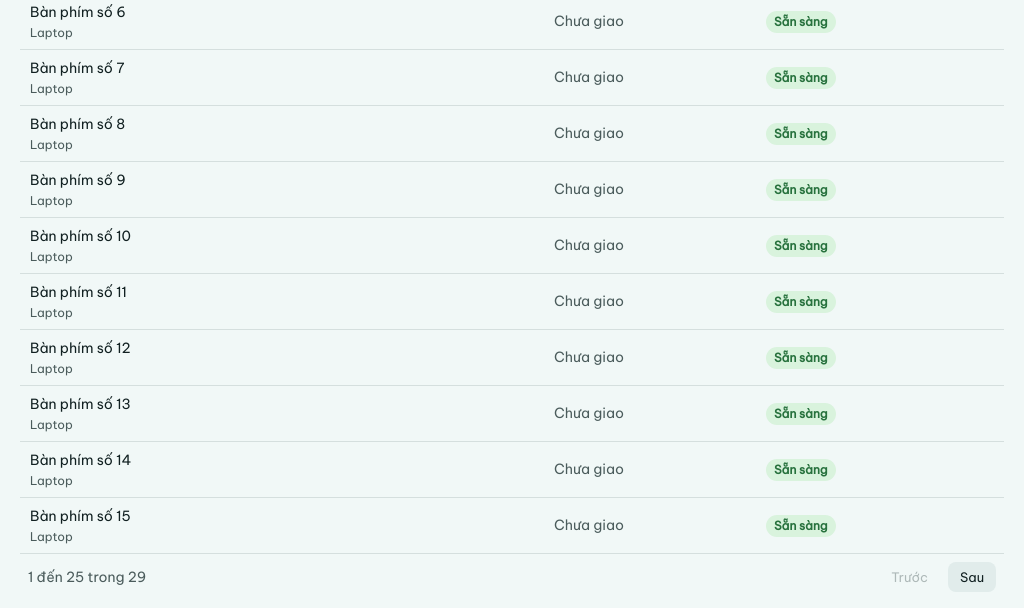
Test: AssetsScreen: list › pages with Trước and Sau and tells where it is
(page scrolled)
Check: the text "1 đến 25 trong 29" is shown, box [28,566,146,588]
Check: the button "Trước" is disabled, box [879,562,940,592]
Click the button "Sau" at (972, 577), box [948,562,996,592]
(page scrolled)
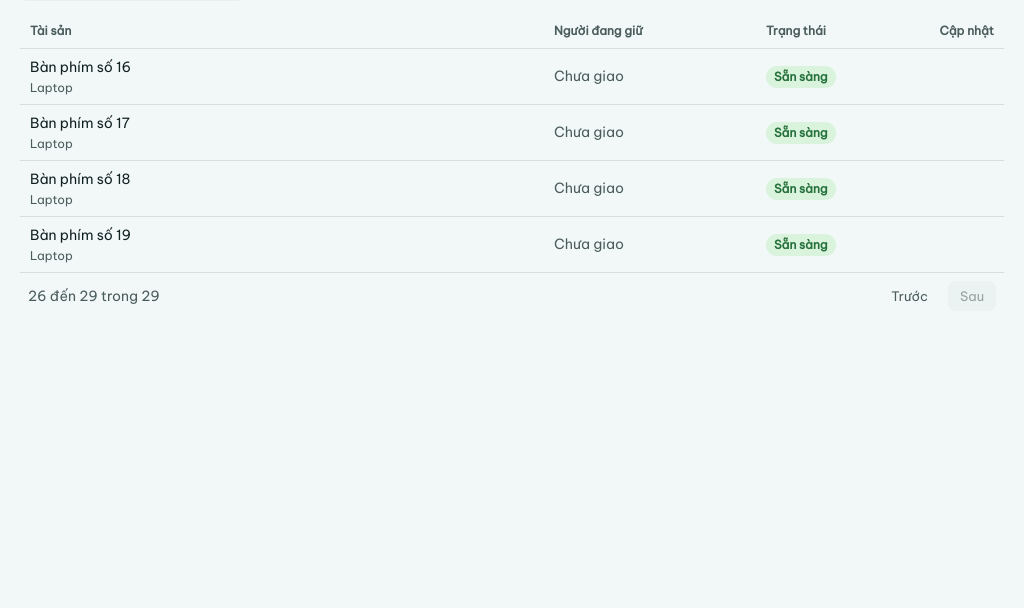
Check: the text "26 đến 29 trong 29" is shown, box [28,286,160,306]
Check: the button "Sau" is disabled, box [948,281,996,311]
